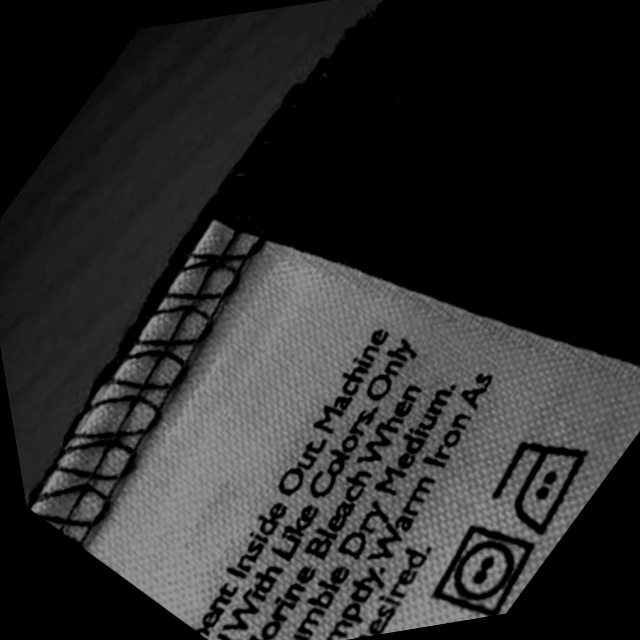iron_medium: (486, 429, 606, 538)
tumble_dry_medium: (424, 517, 547, 623)
